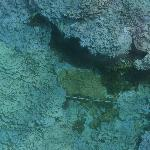dead: (4, 2, 146, 148)
